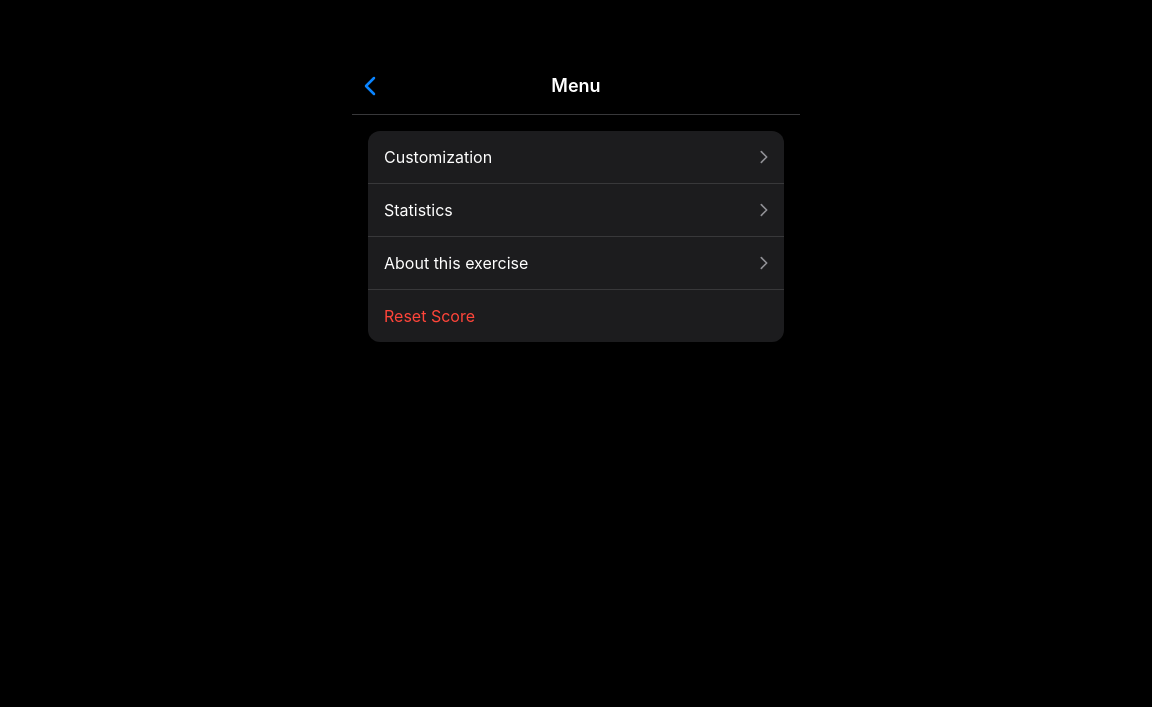
Test: chords screen › disables chords too wide for the range
Click the button "Customization".
click(438, 157)  # box [368,131,784,183]
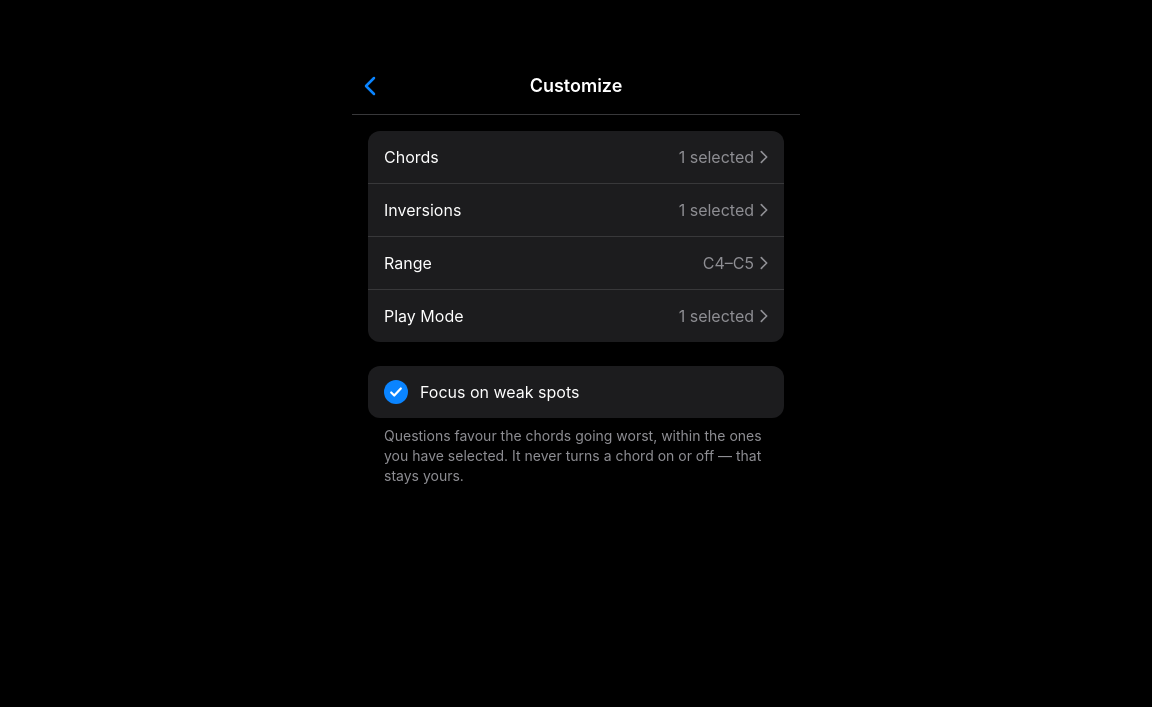
Click the button "Chords 1 selected".
click(411, 157)  # box [368,131,784,183]
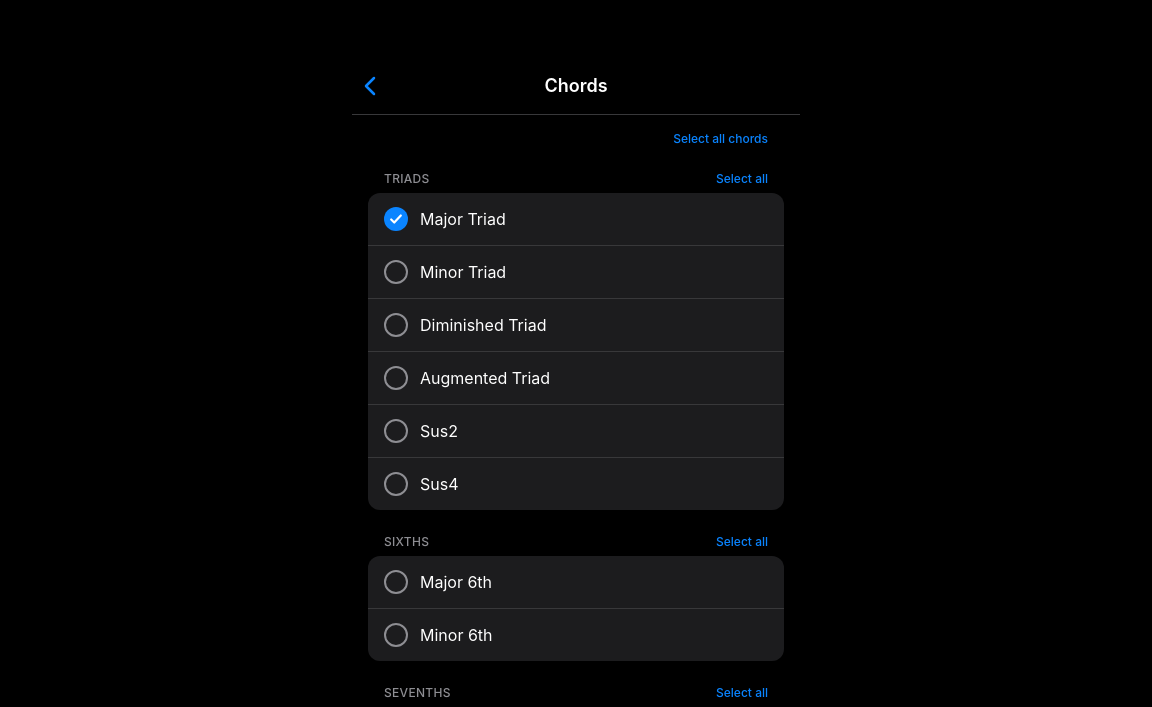
Expected: the checkbox labelled "Minor Triad" is enabled, [368,245,784,298]
